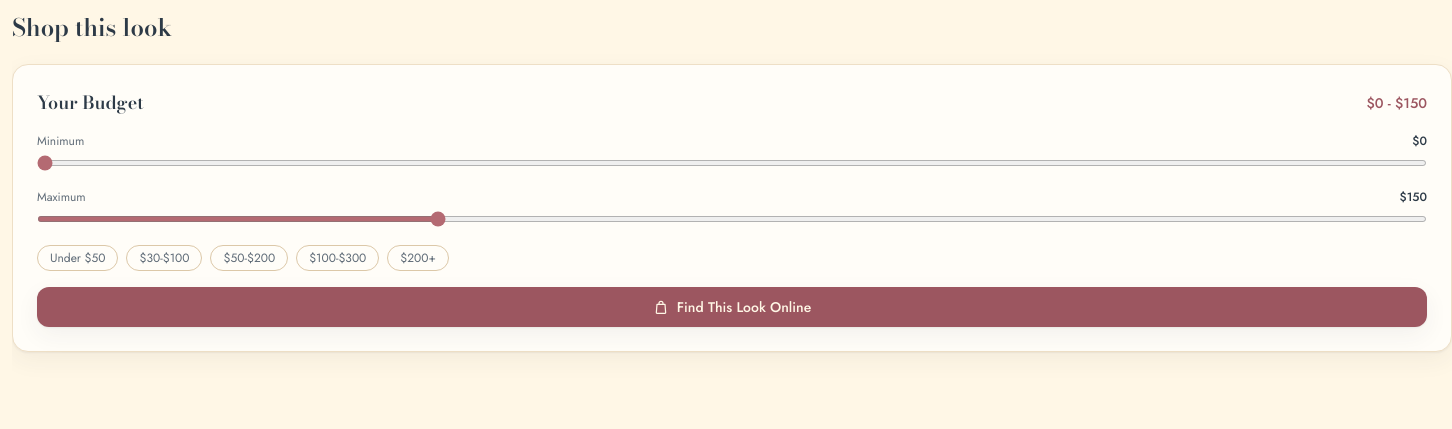
Test: shows an error when the shopping service fails
Click the button "Find This Look Online". click: (732, 307)
box: [37, 287, 1427, 327]
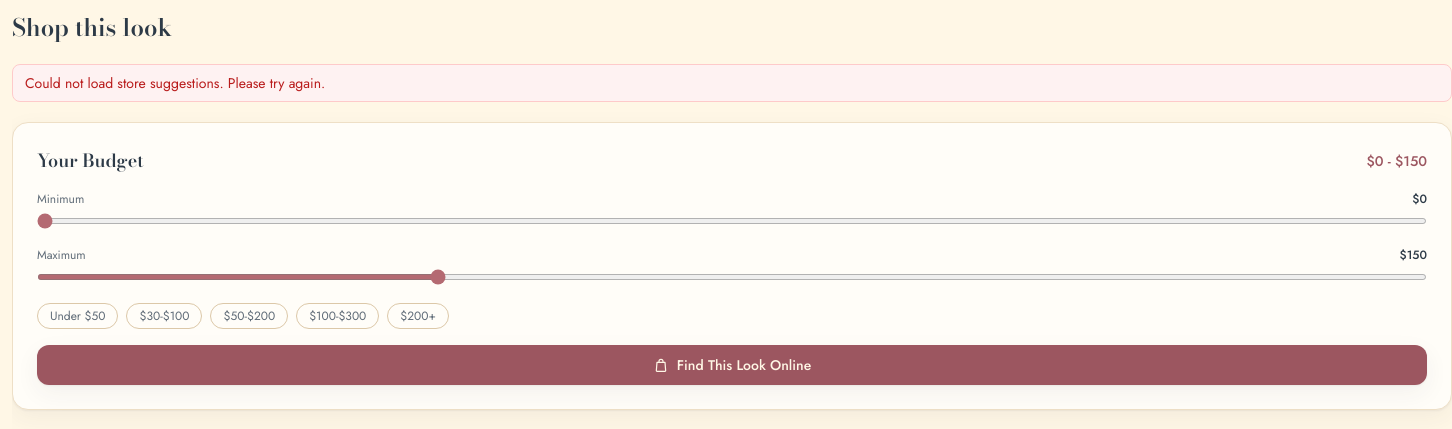
Now the message shows "Could not load store suggestions", box [25, 73, 325, 93]
